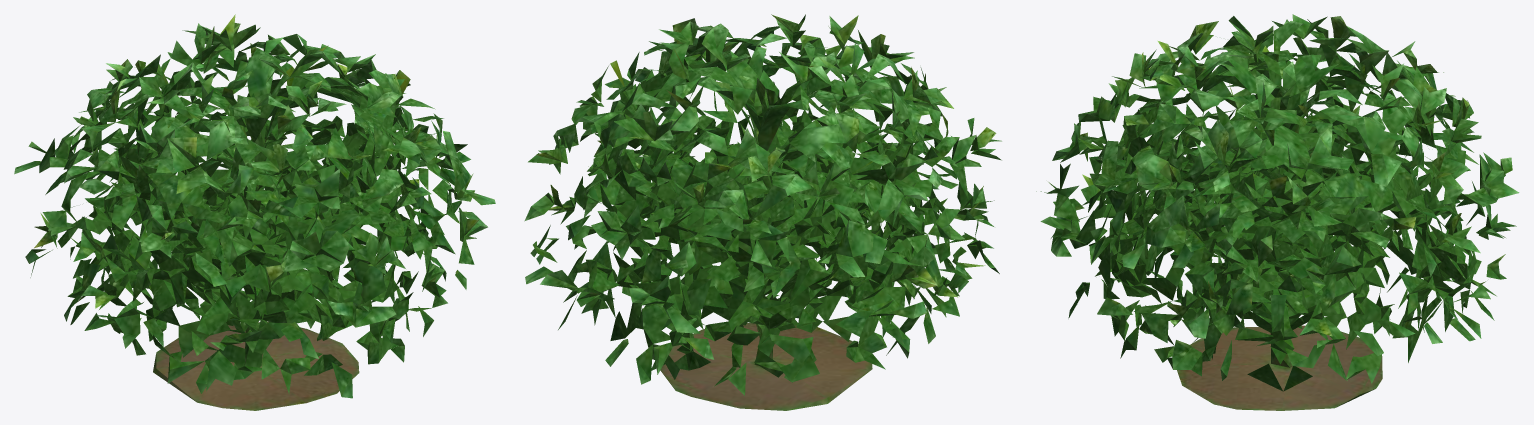
File: plant-tea-final.glb
3 renders of one model, left to right at view 1: azimuth 30°, elevation 25°; view 2: azimuth 150°, elevation 25°; view 3: azimuth 270°, elevation 25°, orthographic. The views are drawn at different scales.
Visible parts, largest first — view 1: output_unwrapped; view 2: output_unwrapped; view 3: output_unwrapped.
Part boxes in pixels (x1,y1,x2,y2): output_unwrapped: (14,14,495,410); output_unwrapped: (524,14,1001,410); output_unwrapped: (1036,14,1519,410).
Bounding box in the file's own units: 0.5289 × 0.3894 × 0.5343.
Materials: 1 (1 with a texture image).
